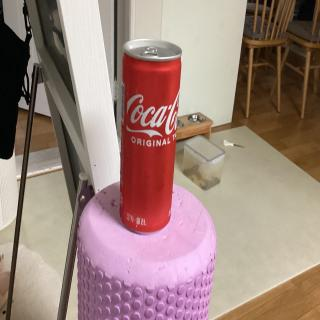cocacola: (116, 38, 184, 234)
